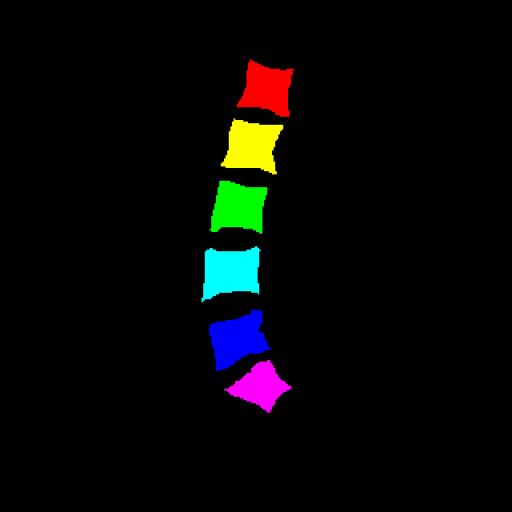L1: (237, 60, 294, 116)
L2: (221, 119, 283, 174)
L3: (211, 181, 267, 234)
L4: (202, 247, 260, 302)
L5: (209, 310, 270, 370)
S1: (225, 360, 291, 413)
